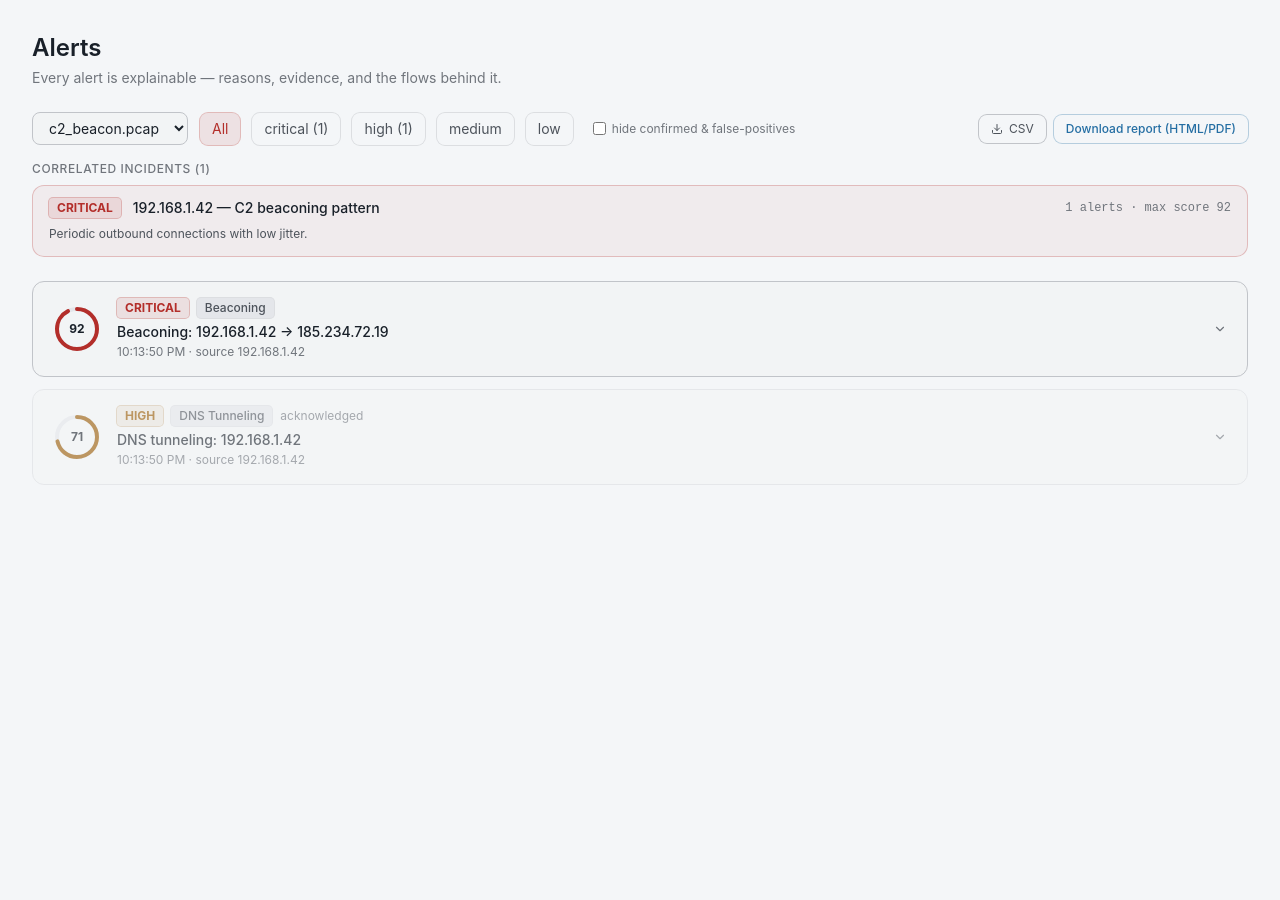
Scenario: AlertsPage › expands an alert card to show reasons, evidence and actions
The width and height of the screenshot is (1280, 900).
What coordinates should you click on to do the following:
click the 7th button
I would click on:
 (77, 328)
Its box is [33,282,1247,376].
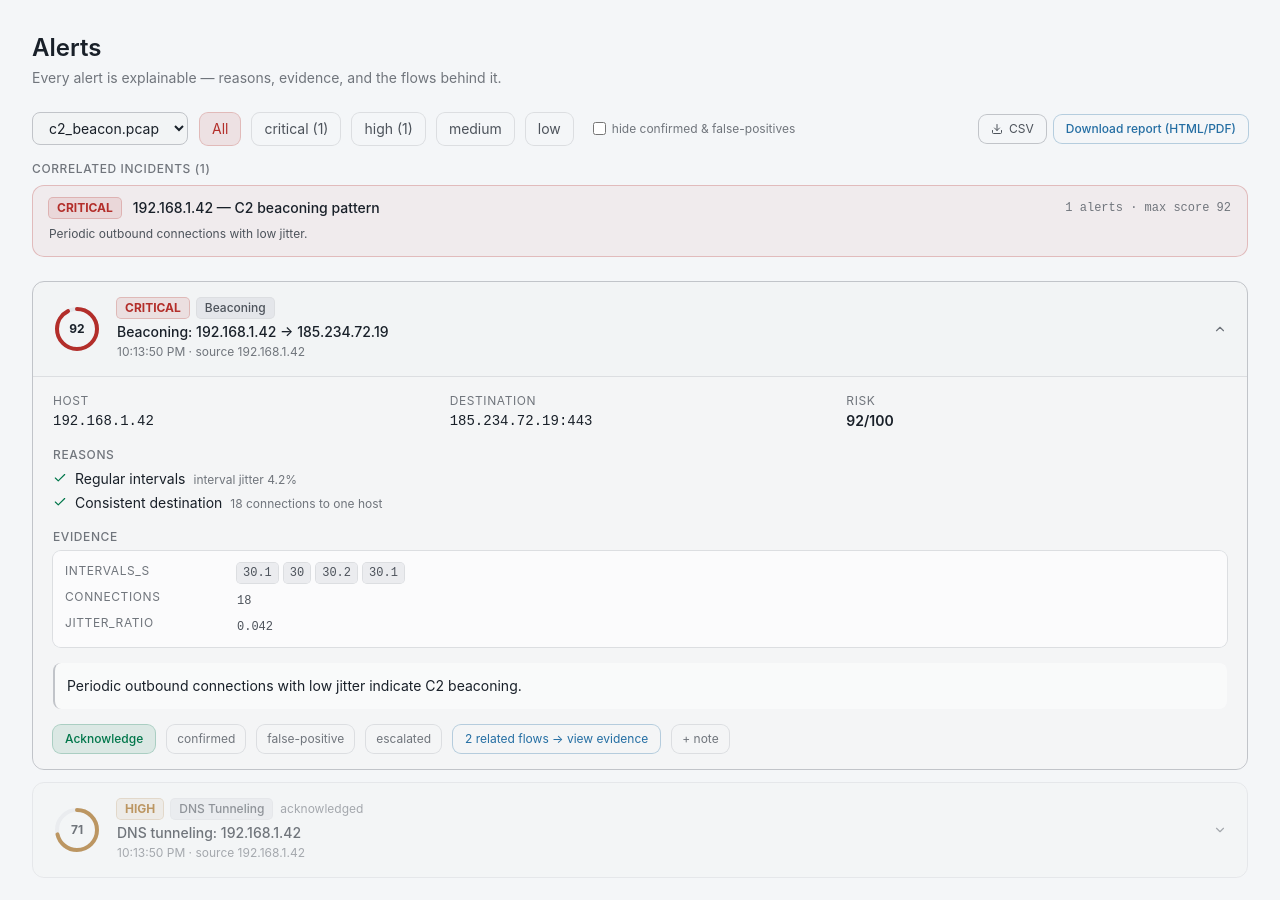
Result: the text "Reasons" is shown at [53,446,114,462]
Result: the text "Regular intervals" is shown at [75,470,186,486]
Result: the text "Consistent destination" is shown at [75,494,222,510]
